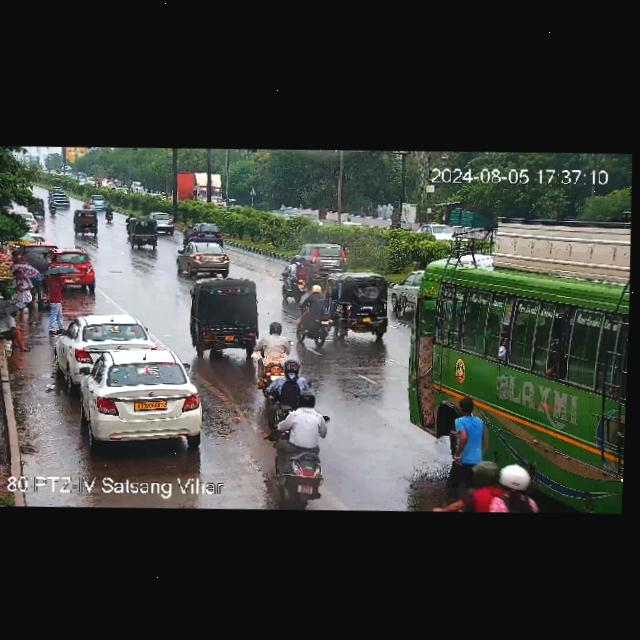bus: (403, 228, 632, 438)
car: (61, 346, 207, 451), (56, 312, 158, 377), (185, 275, 267, 354), (327, 272, 392, 340), (178, 243, 236, 276), (292, 244, 349, 274), (48, 251, 96, 286), (390, 265, 420, 317), (128, 217, 162, 248), (414, 221, 458, 243), (185, 221, 224, 242), (20, 239, 58, 258), (8, 210, 38, 234), (149, 214, 179, 234), (75, 210, 99, 233), (297, 212, 322, 227), (27, 197, 46, 216), (50, 192, 73, 207), (266, 209, 289, 223), (336, 220, 364, 231), (88, 193, 105, 209), (147, 191, 164, 200), (113, 186, 126, 195)
motorcycle: (432, 455, 557, 514), (275, 395, 337, 494), (266, 359, 312, 420), (255, 320, 292, 382), (293, 285, 328, 341), (281, 255, 307, 294), (102, 206, 116, 222), (47, 200, 58, 215), (81, 199, 90, 211)
person: (444, 396, 492, 499), (43, 268, 72, 325), (0, 308, 36, 349), (12, 266, 37, 320)
truck: (176, 169, 223, 207)
